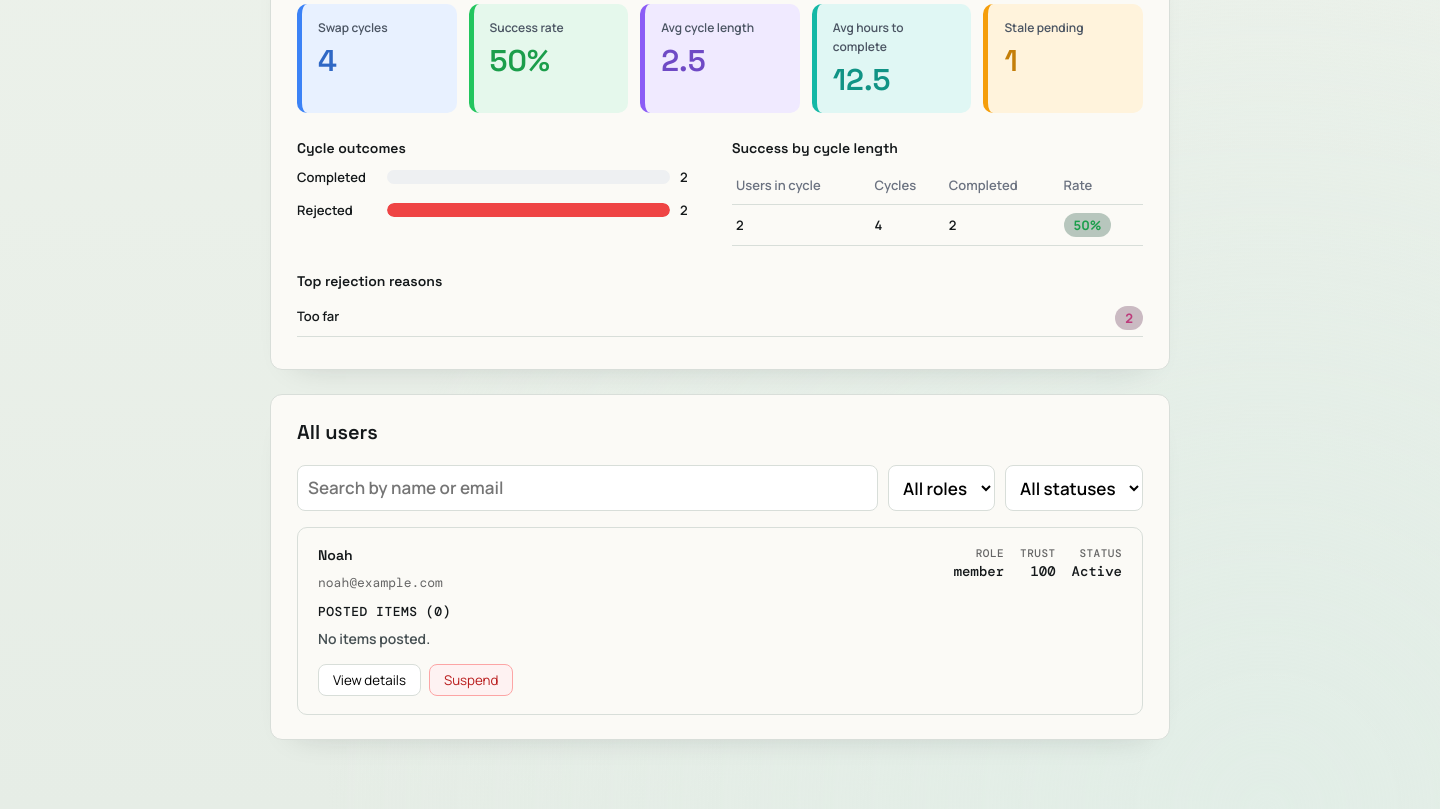
Test: AdminDashboardPage › suspends a user and opens their detail view
The image size is (1440, 809).
(page scrolled)
Click the button "Suspend" at [471, 680], box [429,664,513,696]
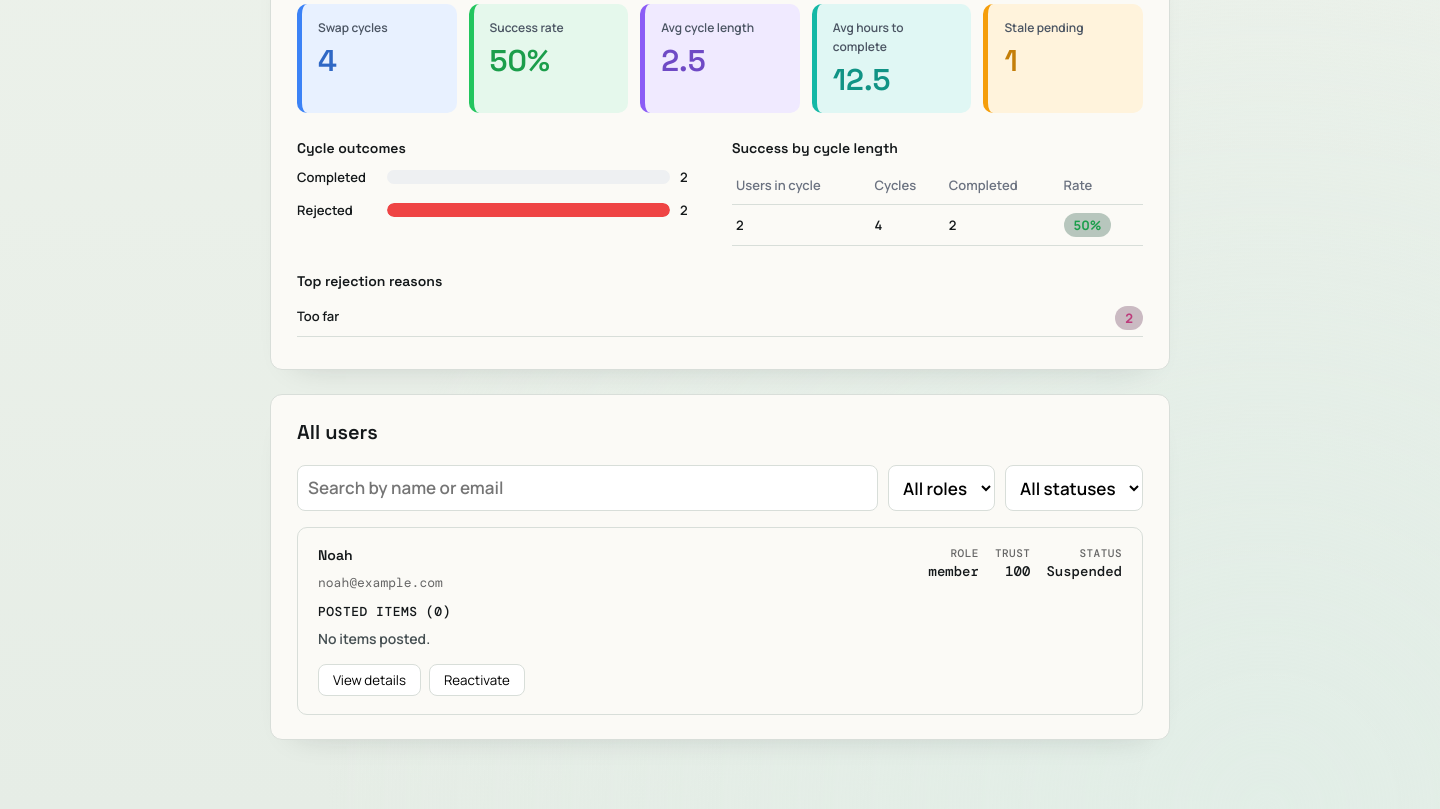
Check: the text "Suspended" is shown, box [1046,562,1122,580]
Check: the button "Reactivate" is shown, box [429,664,525,696]
Click the button "View details" at [370, 680], box [318,664,421,696]
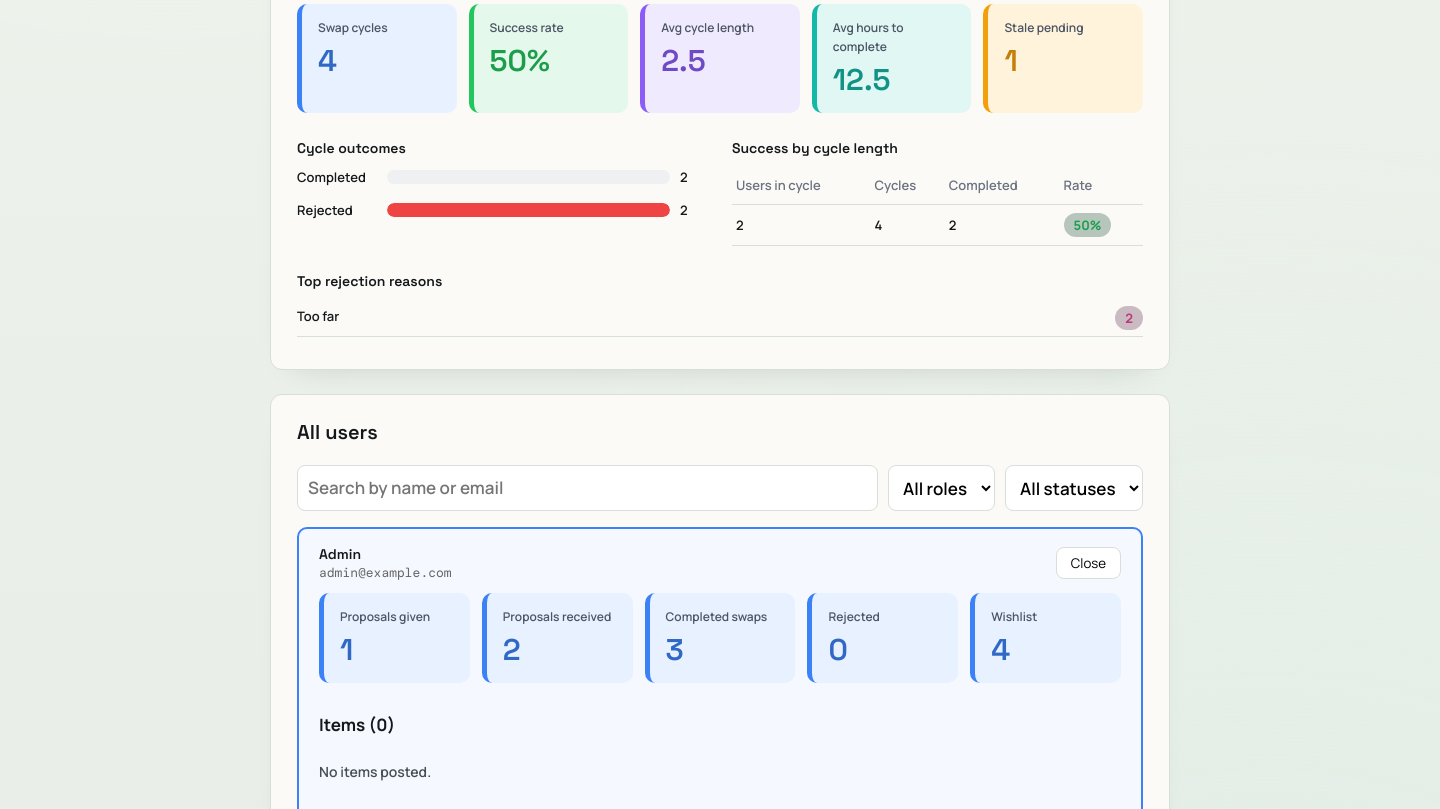
Check: the text "Proposals received" is shown, box [503,607,617,626]
